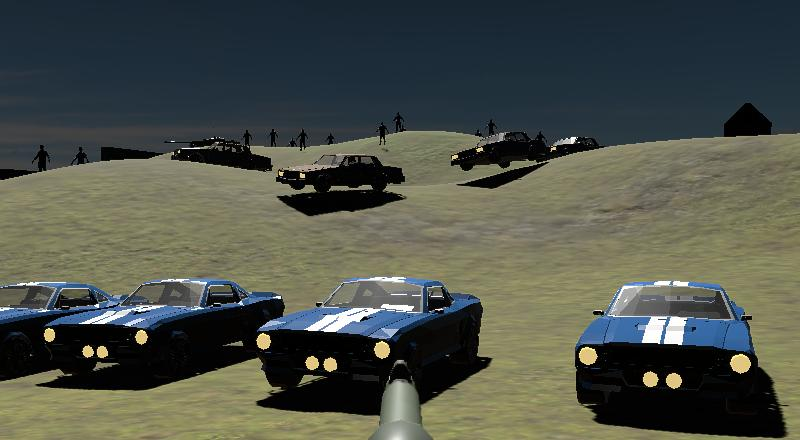House: (715, 98, 783, 152)
Human: (30, 142, 54, 177), (68, 143, 92, 170), (391, 109, 409, 135), (375, 119, 390, 147)
car: (562, 266, 793, 438), (249, 268, 502, 411), (11, 270, 292, 396), (0, 271, 134, 394), (268, 146, 414, 212), (445, 123, 560, 176)
